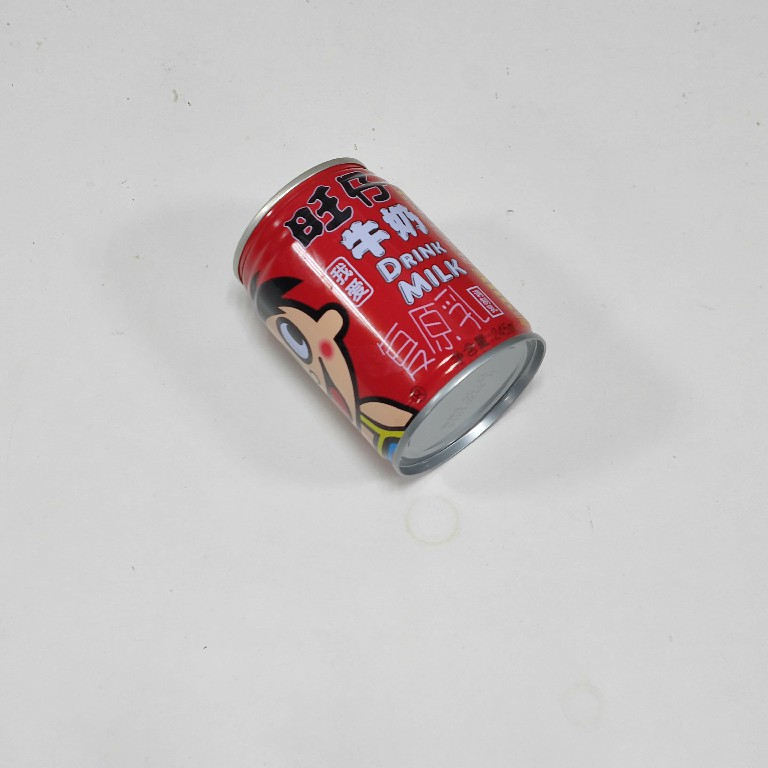can: (225, 152, 549, 484)
